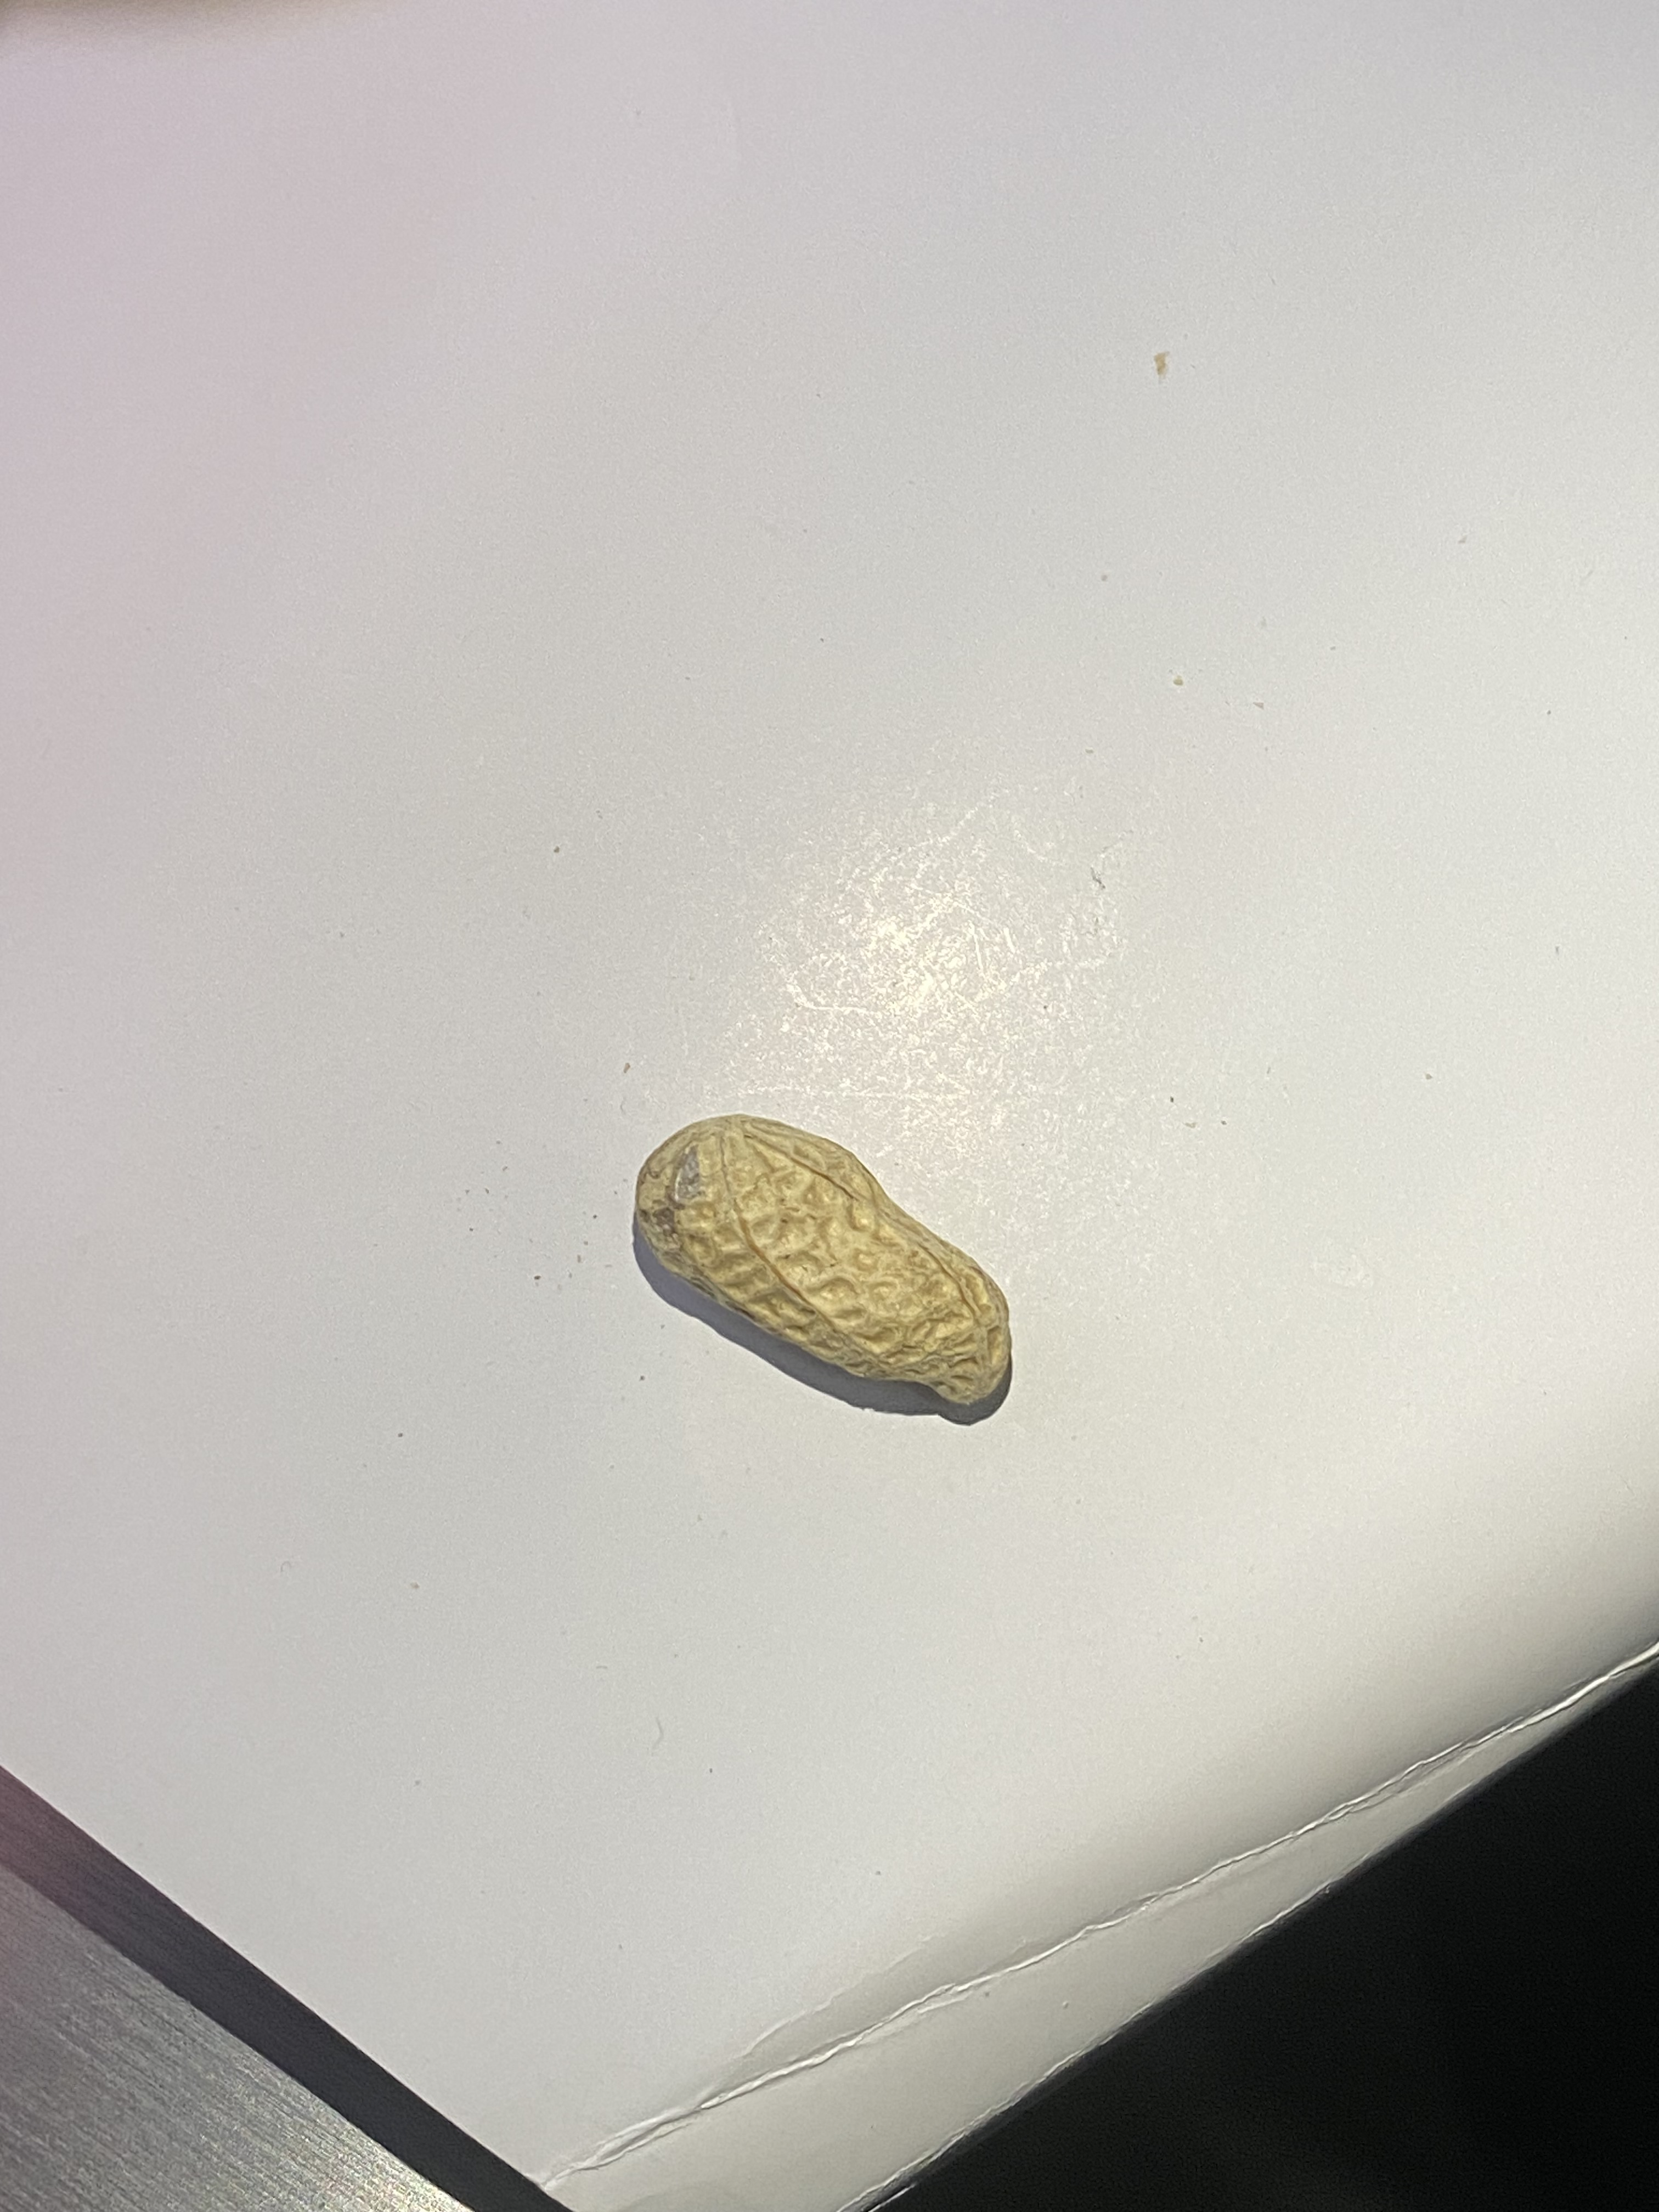kacang2: (608, 1123, 1030, 1432)
